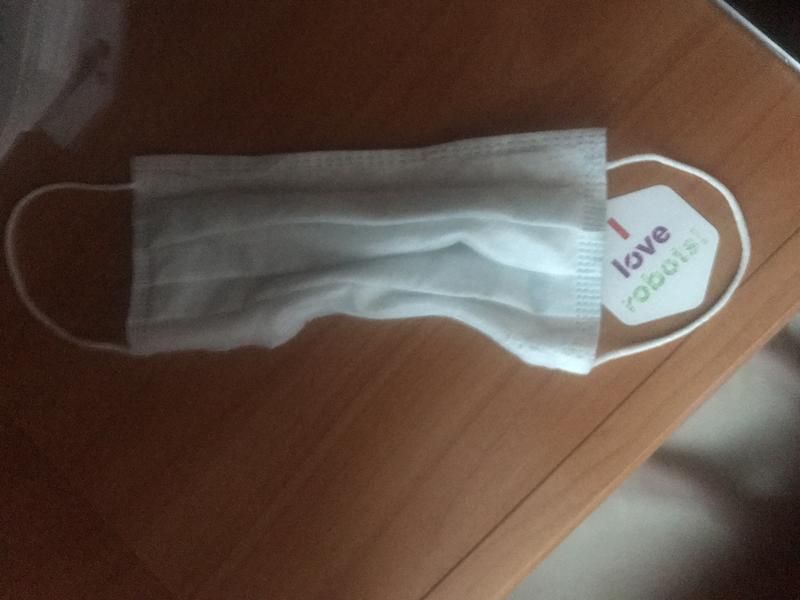medical_mask: (9, 127, 751, 374)
